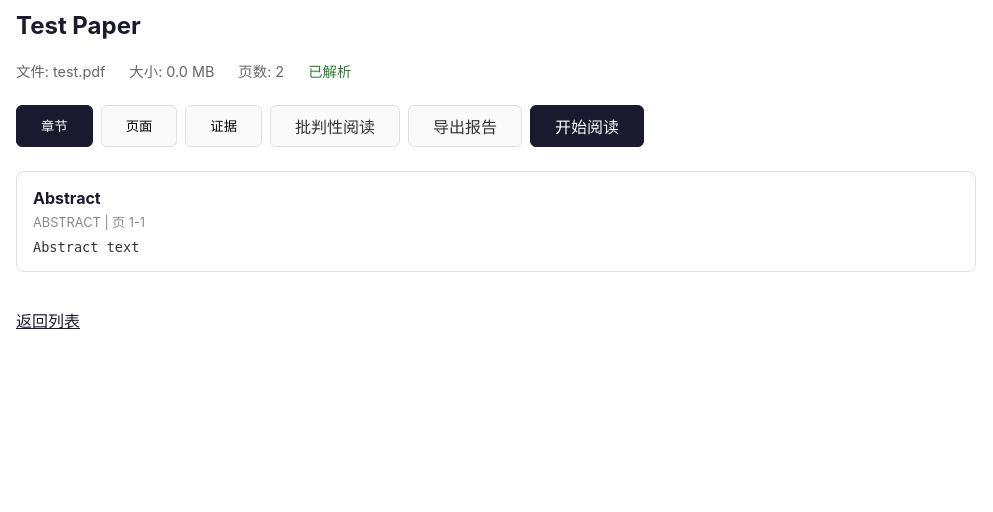
Test: PaperDetailView › null char range: degraded notice shown, no mark
Step 1. Click the button "证据" → (224, 126), box x1=185 y1=105 x2=262 y2=147
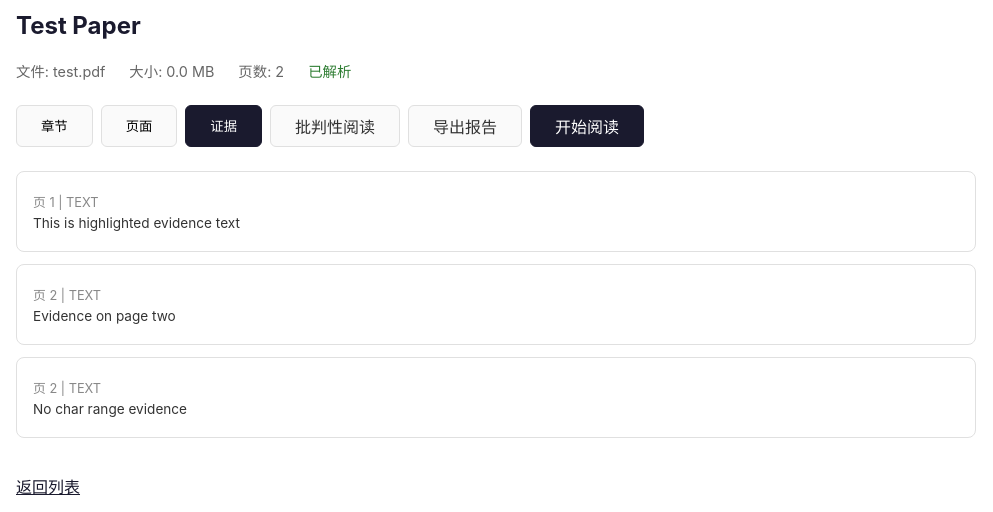
Step 2. Click the 3rd element with class "evidence-item" → (496, 397), box x1=16 y1=357 x2=976 y2=438
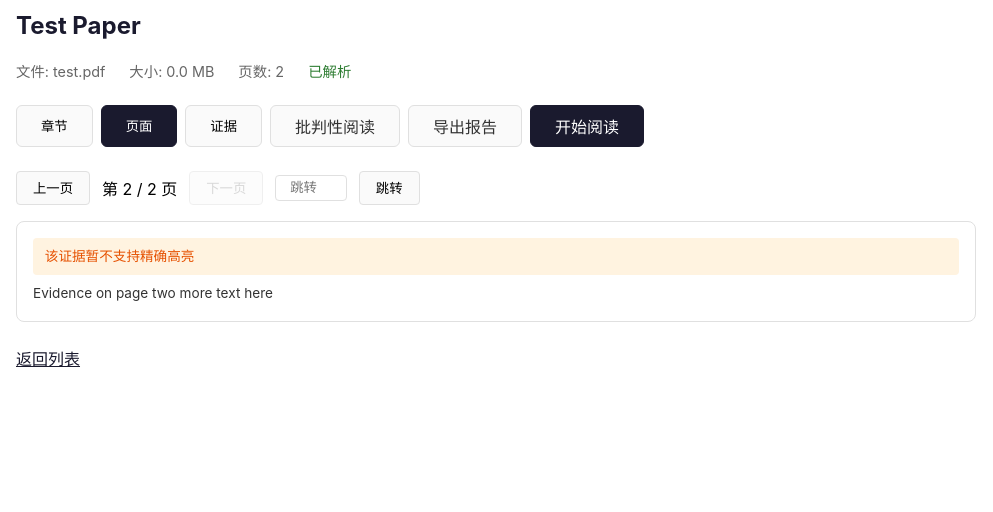
Check: the text "该证据暂不支持精确高亮" is shown, box x1=33 y1=238 x2=959 y2=276
